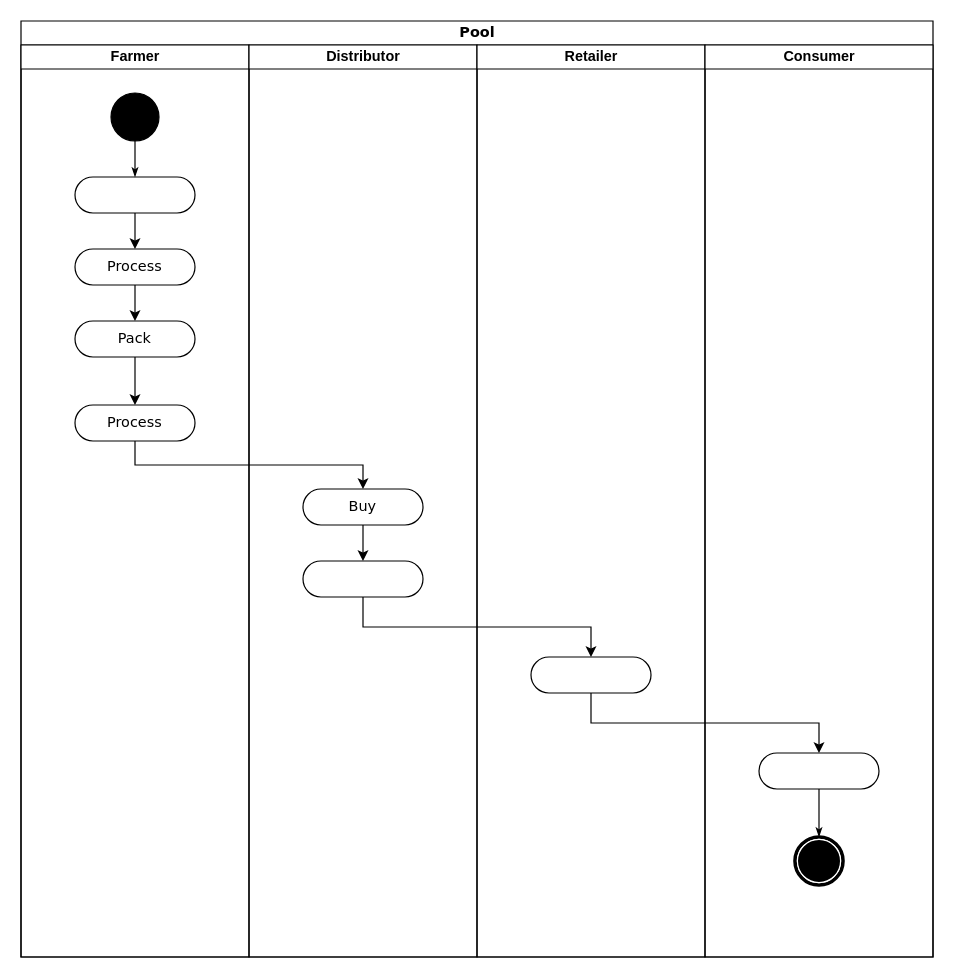
Image size: 954x978. Some labels were removed from this diagram. The shapes that lost their labels are listed below. From the top down, each one's centre as x and y in pixels, then its label:
the point at 134,194: Harvest
the point at 362,578: Ship
the point at 590,674: Receive
the point at 818,770: Purchase
